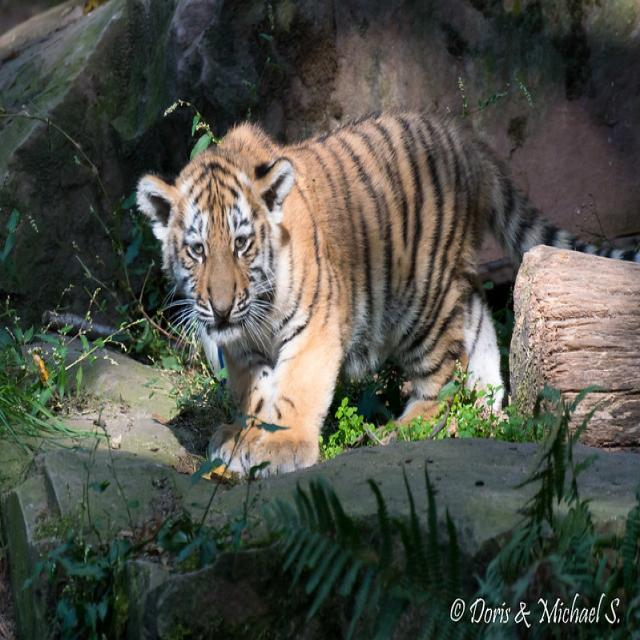Tiger: (137, 90, 529, 472)
